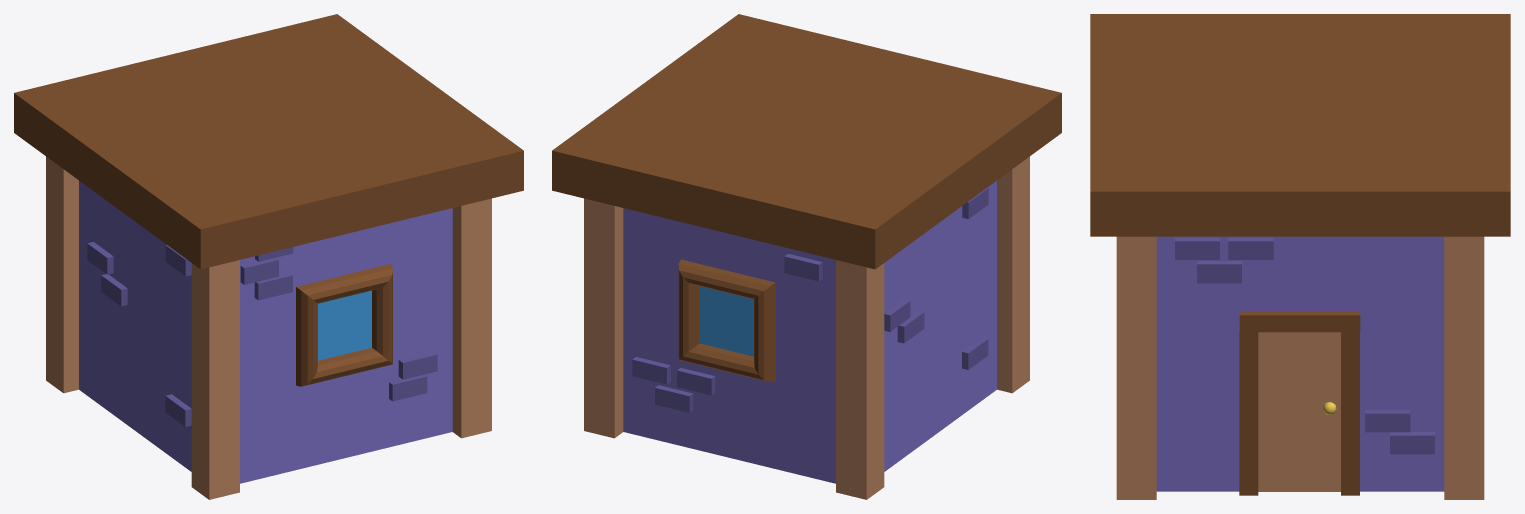
File: house2.2.glb
3 renders of one model, left to right at view 1: azimuth 30°, elevation 25°; view 2: azimuth 150°, elevation 25°; view 3: azimuth 270°, elevation 25°, orthographic. The views are drawn at different scales.
Visible parts, largest first — view 1: Cube.269, Cube.264, Cube.267, Cube.268, Cube.266, Torus, Cylinder.006, Cube.285, Cube.282, Cube.286, Cube.283, Cube.278 (+2 smaller); view 2: Cube.269, Cube.264, Cube.266, Cube.265, Cube.267, Torus.001, Cylinder.009, Cube.275, Cube.276, Cube.277, Cube.287, Cube.278 (+2 smaller); view 3: Cube.269, Cube.264, Cube.291, Cube.265, Cube.268, Cube.289, Cube.290, Cube.288, Cube.274, Cube.273, Cube.270, Cube.271 (+1 smaller).
Part boxes in pixels (x1,y1,x2,y2): Cube.269: (14,14,523,269); Cube.264: (79,180,452,483); Cube.267: (191,260,239,499); Cube.268: (452,198,491,438); Cube.266: (46,156,78,393); Torus: (296,264,392,386); Cylinder.006: (317,290,371,360); Cube.285: (398,351,437,379); Cube.282: (240,258,278,284); Cube.286: (389,374,427,401); Cube.283: (254,272,292,300); Cube.278: (165,394,191,426); Cube.269: (552,14,1061,269); Cube.264: (623,180,996,483); Cube.266: (836,260,884,499); Cube.265: (584,198,623,438); Cube.267: (997,156,1029,393); Torus.001: (678,259,775,382); Cylinder.009: (699,286,753,356); Cube.275: (655,385,693,412); Cube.276: (677,368,715,395); Cube.277: (784,254,822,281); Cube.287: (632,357,670,384); Cube.278: (962,337,988,369); Cube.269: (1090,14,1510,236); Cube.264: (1156,236,1444,491); Cube.291: (1258,332,1340,491); Cube.265: (1444,236,1484,499); Cube.268: (1116,236,1156,499); Cube.289: (1239,328,1258,495); Cube.290: (1341,332,1359,495); Cube.288: (1239,312,1360,332); Cube.274: (1228,237,1273,259); Cube.273: (1365,410,1410,432); Cube.270: (1175,237,1219,259); Cube.271: (1197,261,1241,283).
Size of the model in its own units: 1.58 by 1.33 by 1.58.
